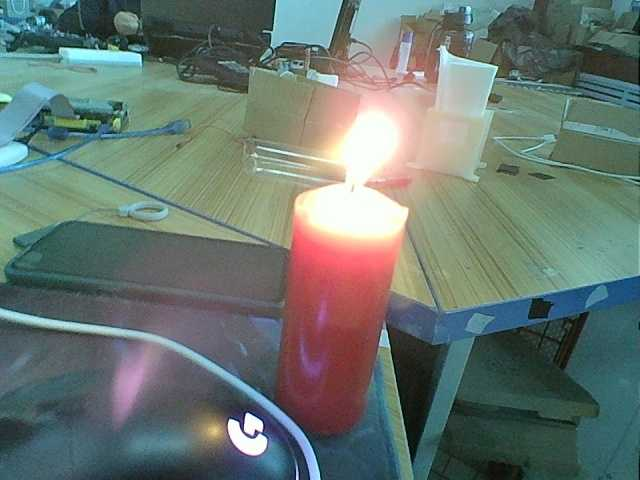candle: (274, 179, 401, 445)
fire: (320, 100, 408, 203)
